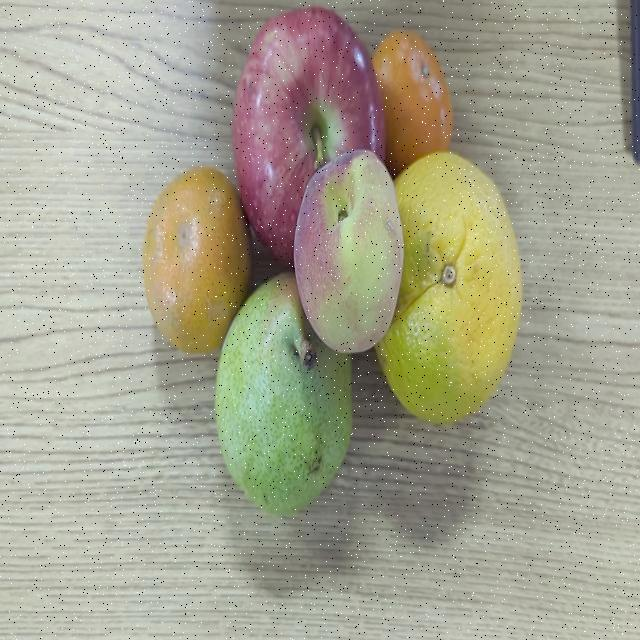Apel Merah: (232, 1, 378, 182)
Jeruk: (388, 147, 524, 421)
Jeruk Mandarin: (143, 160, 249, 357), (370, 24, 460, 158)
Persik: (296, 143, 404, 353)
Pir: (218, 270, 358, 518)
